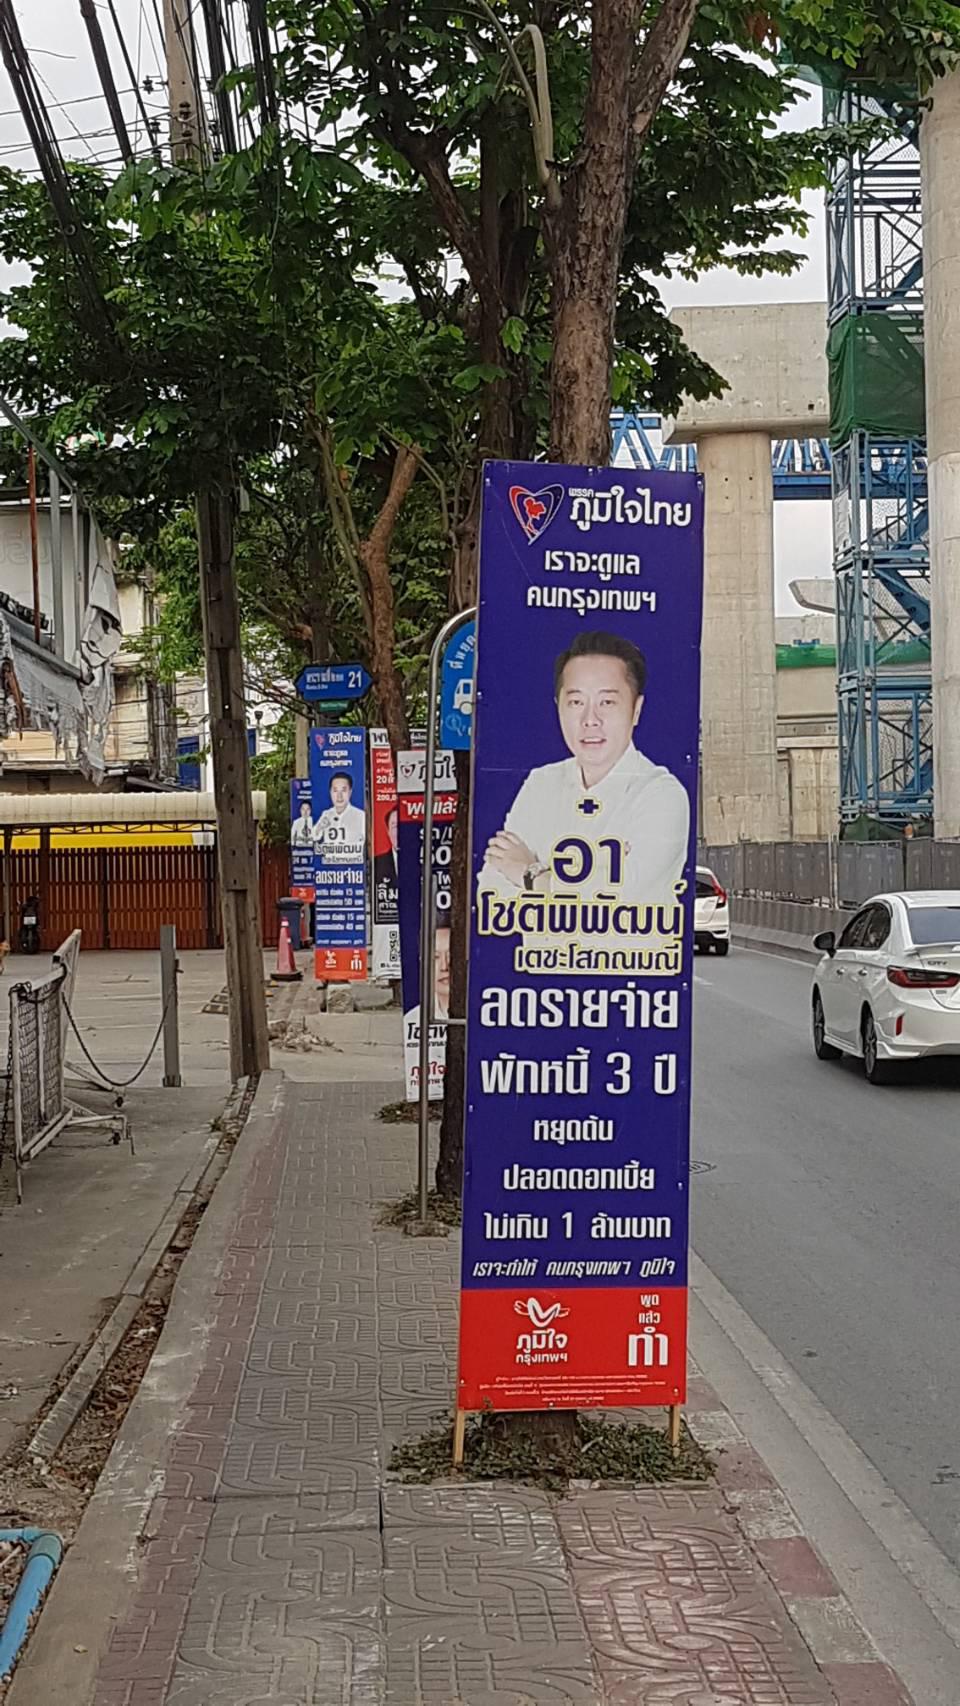Banner: (465, 446, 703, 1411)
